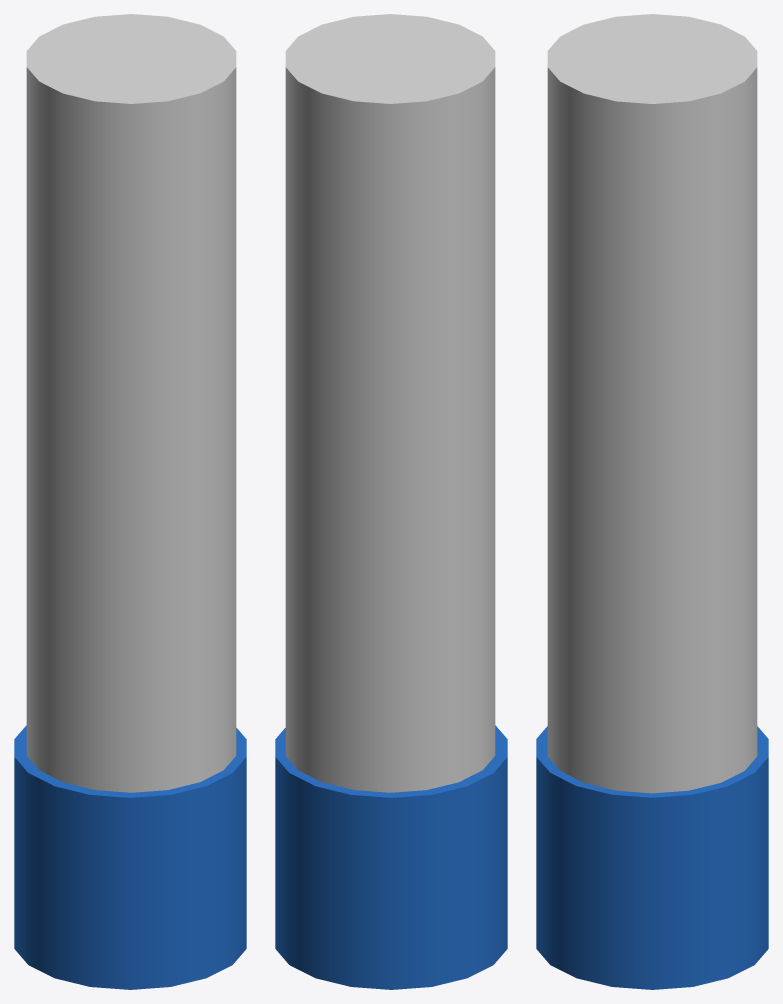
The model's file is Prison_Pillar.fbx.
3 renders of one model, left to right at view 1: azimuth 30°, elevation 25°; view 2: azimuth 150°, elevation 25°; view 3: azimuth 270°, elevation 25°, orthographic.
Visible parts, largest first — view 1: Cylinder199, Cylinder200; view 2: Cylinder199, Cylinder200; view 3: Cylinder199, Cylinder200.
Boxes of the visible parts, x1=… form: Cylinder199: x1=26, y1=14, x2=236, y2=792; Cylinder200: x1=14, y1=725, x2=246, y2=989; Cylinder199: x1=285, y1=14, x2=495, y2=792; Cylinder200: x1=275, y1=725, x2=507, y2=989; Cylinder199: x1=547, y1=14, x2=757, y2=793; Cylinder200: x1=536, y1=726, x2=768, y2=989.
Bounding box in the file's own units: 60.73 × 250 × 59.81.
